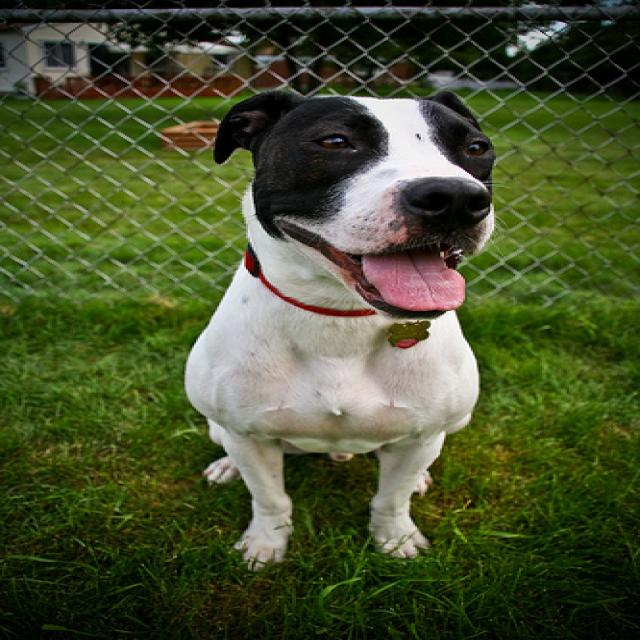dog-american_pit_bull_terrier: (171, 84, 504, 577)
